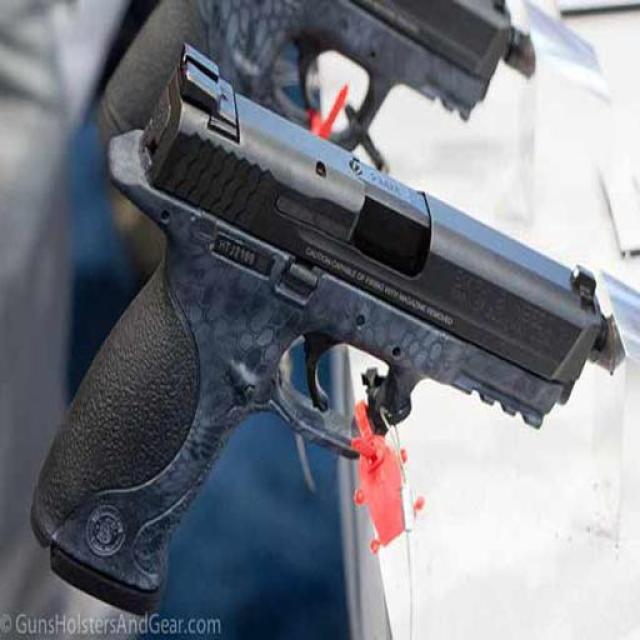pistol: (26, 40, 617, 577)
